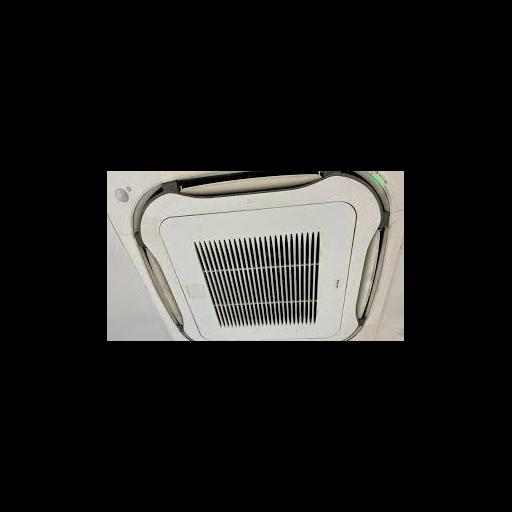4-way-ac: (108, 171, 404, 341)
